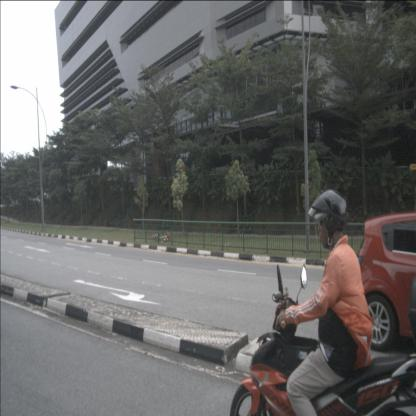vehicle-bicycle: (152, 232, 170, 242)
vehicle-car: (352, 210, 416, 354)
vehicle-motorcycle: (228, 188, 416, 416)
